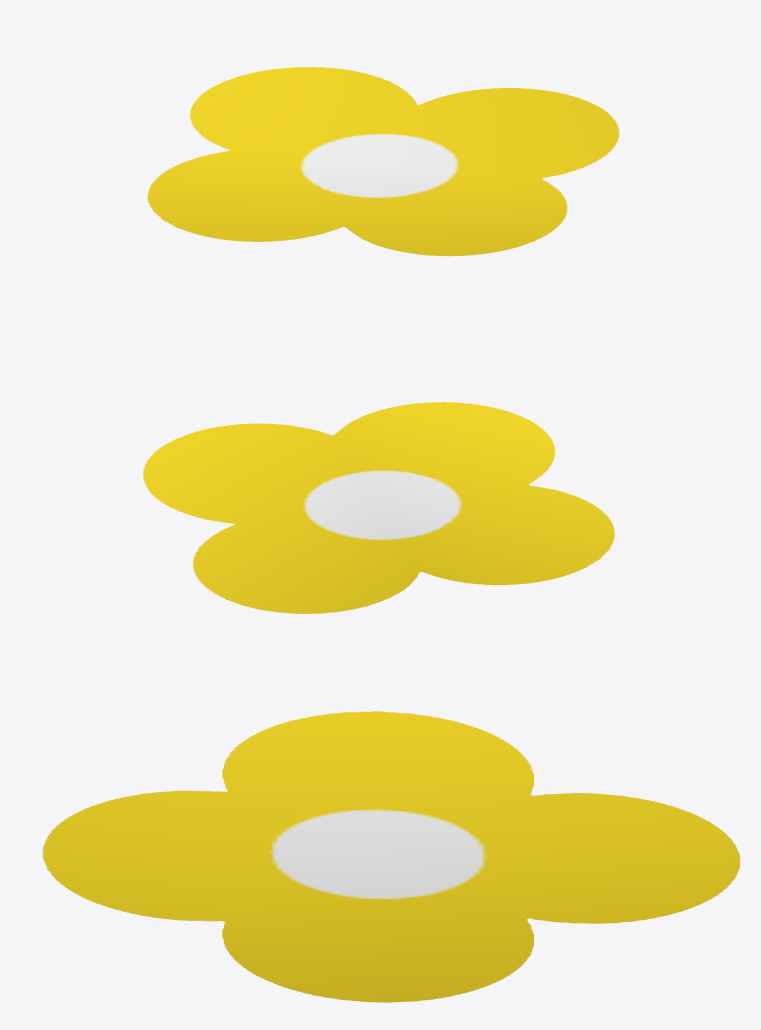
Rendered from FlowerLow.fbx.
3 renders of one model, top to bottom at view 1: azimuth 30°, elevation 25°; view 2: azimuth 150°, elevation 25°; view 3: azimuth 270°, elevation 25°, orthographic. The views are drawn at different scales.
Parts seen in each view (by area): view 1: Flower3; view 2: Flower3; view 3: Flower3.
Boxes of the visible parts, x1,y1,x2,y2 form: Flower3: (147, 67, 619, 256); Flower3: (143, 402, 614, 613); Flower3: (42, 711, 740, 1002).
Bounding box in the file's own units: 0.185 × 0.00493 × 0.185.
1 material, 1 textured.
